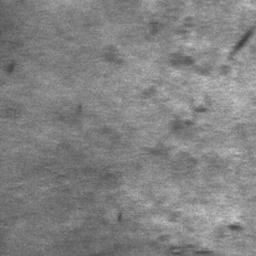Rolled in scale: (228, 28, 253, 61), (179, 17, 193, 34), (169, 246, 182, 256), (227, 224, 243, 232), (194, 107, 208, 114), (195, 250, 210, 256), (184, 120, 194, 126)
